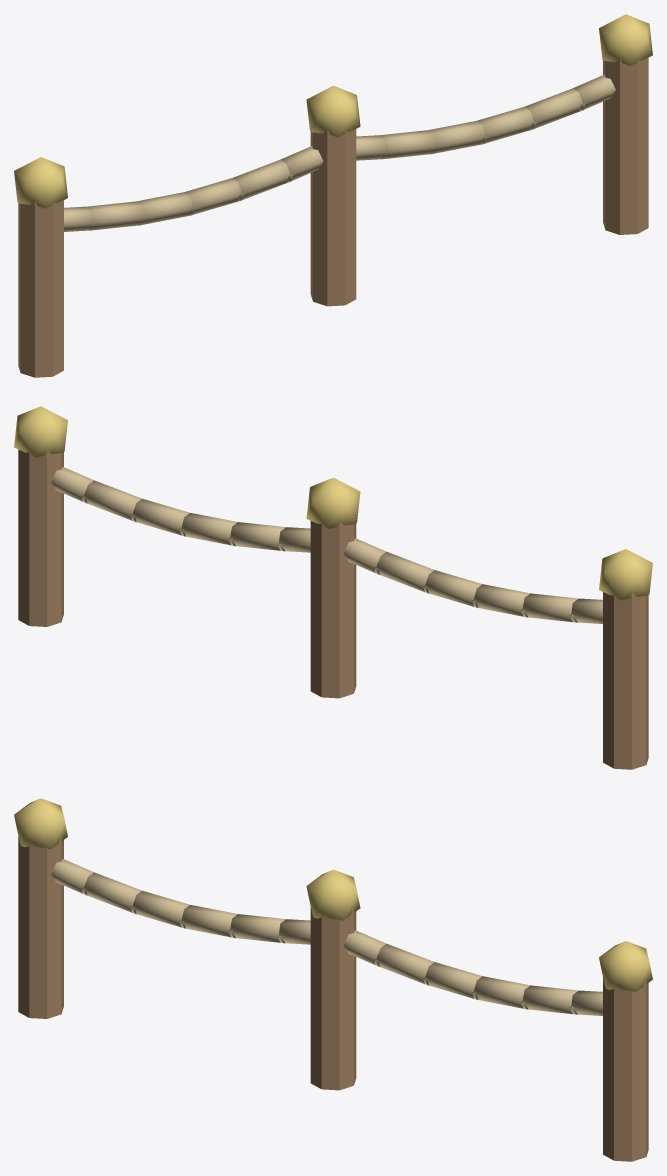
The model's file is Deco_RopeFence.fbx.
3 renders of one model, top to bottom at view 1: azimuth 30°, elevation 25°; view 2: azimuth 150°, elevation 25°; view 3: azimuth 330°, elevation 25°, orthographic.
Parts seen in each view (by area): view 1: Deco_RopeFence; view 2: Deco_RopeFence; view 3: Deco_RopeFence.
Part boxes in pixels (left/top/right/bottom): Deco_RopeFence: left=14, top=14, right=652, bottom=377; Deco_RopeFence: left=14, top=406, right=652, bottom=769; Deco_RopeFence: left=14, top=798, right=652, bottom=1161.
Bounding box in the file's own units: 1.08 × 0.345 × 0.0766.
